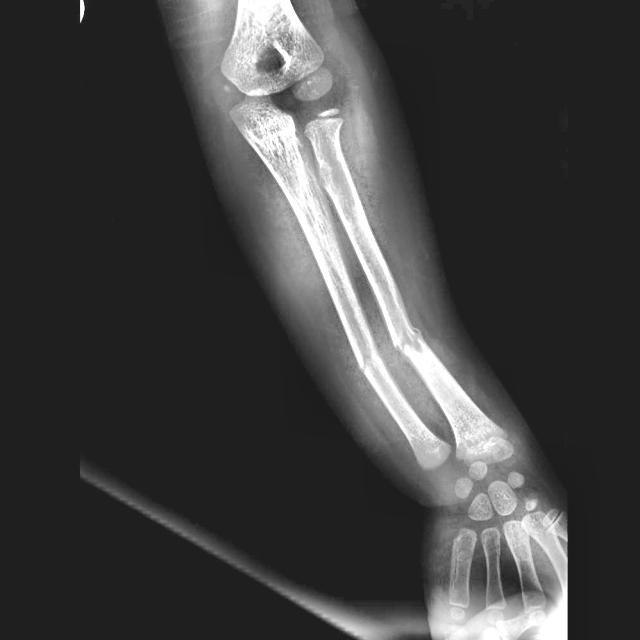fracture: (354, 344, 382, 382), (391, 326, 424, 356)
